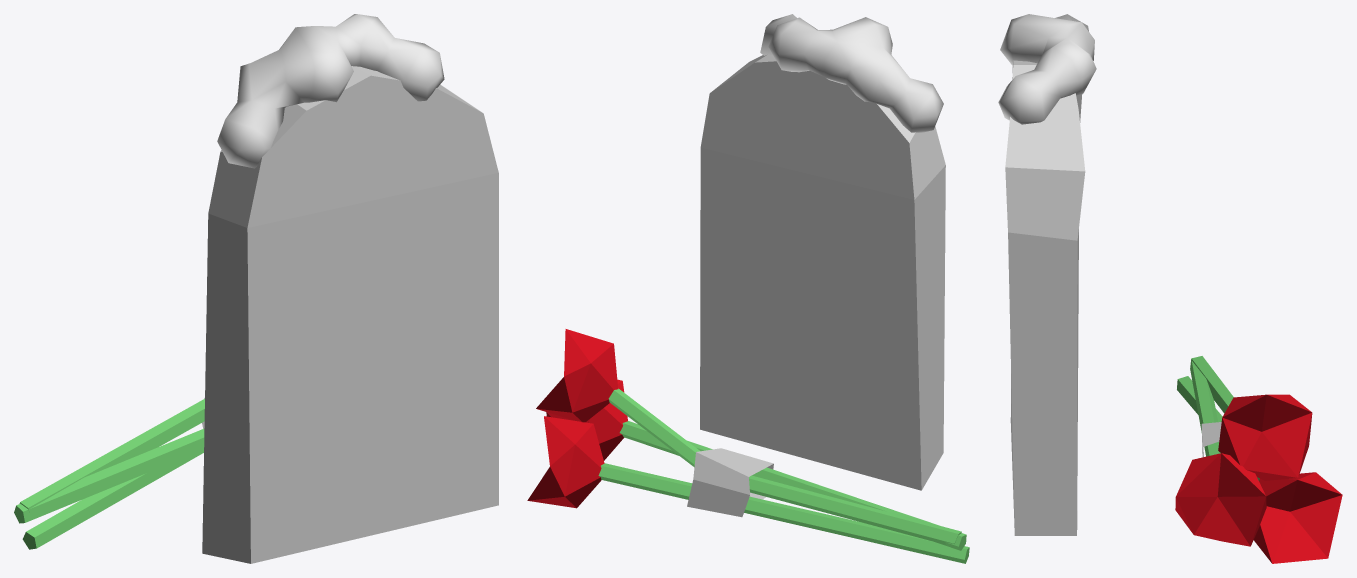
File: Grave.fbx
3 views of the same model, side by side, from view 1: azimuth 30°, elevation 25°; view 2: azimuth 150°, elevation 25°; view 3: azimuth 270°, elevation 25° (orthographic). The views are drawn at different scales.
Parts seen in each view (by area): view 1: GraveStone, GraveSnow, Flowers; view 2: GraveStone, Flowers, GraveSnow, FlowerPaper; view 3: GraveStone, Flowers, GraveSnow, FlowerPaper.
Boxes of the visible parts, box(x1,y1,x2,y2) form: GraveStone: box(202, 66, 498, 563); GraveSnow: box(217, 14, 444, 168); Flowers: box(14, 399, 204, 549); GraveStone: box(700, 54, 945, 490); Flowers: box(527, 329, 969, 563); GraveSnow: box(760, 14, 943, 133); FlowerPaper: box(687, 448, 773, 517); GraveStone: box(1005, 60, 1085, 535); Flowers: box(1175, 356, 1342, 563); GraveSnow: box(998, 14, 1096, 124); FlowerPaper: box(1201, 422, 1221, 457).
Bounding box in the file's own units: 216 × 236 × 158.
